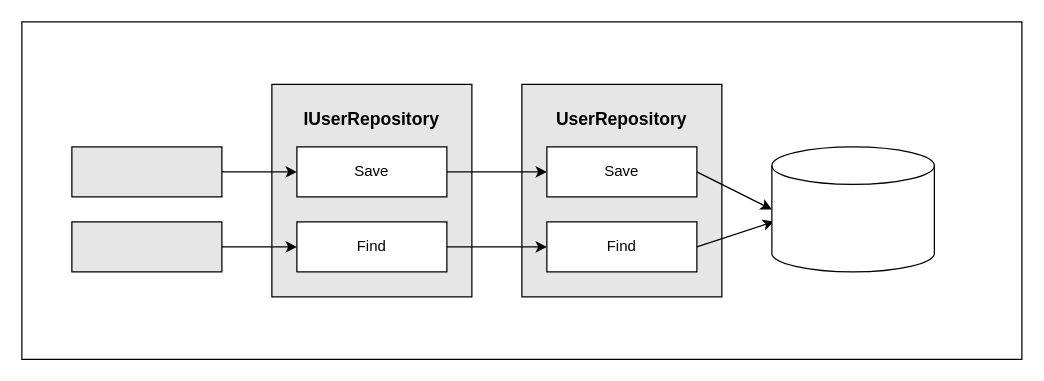
The diagram is 1044 pixels wide and 381 high, and some of its shapes have lost their labels. Here are the shapes that lost their labels. From the top down, the centre of each, then its label:
At (146,171): "Program".
At (852,209): "データストア".
At (146,246): "UserService".
